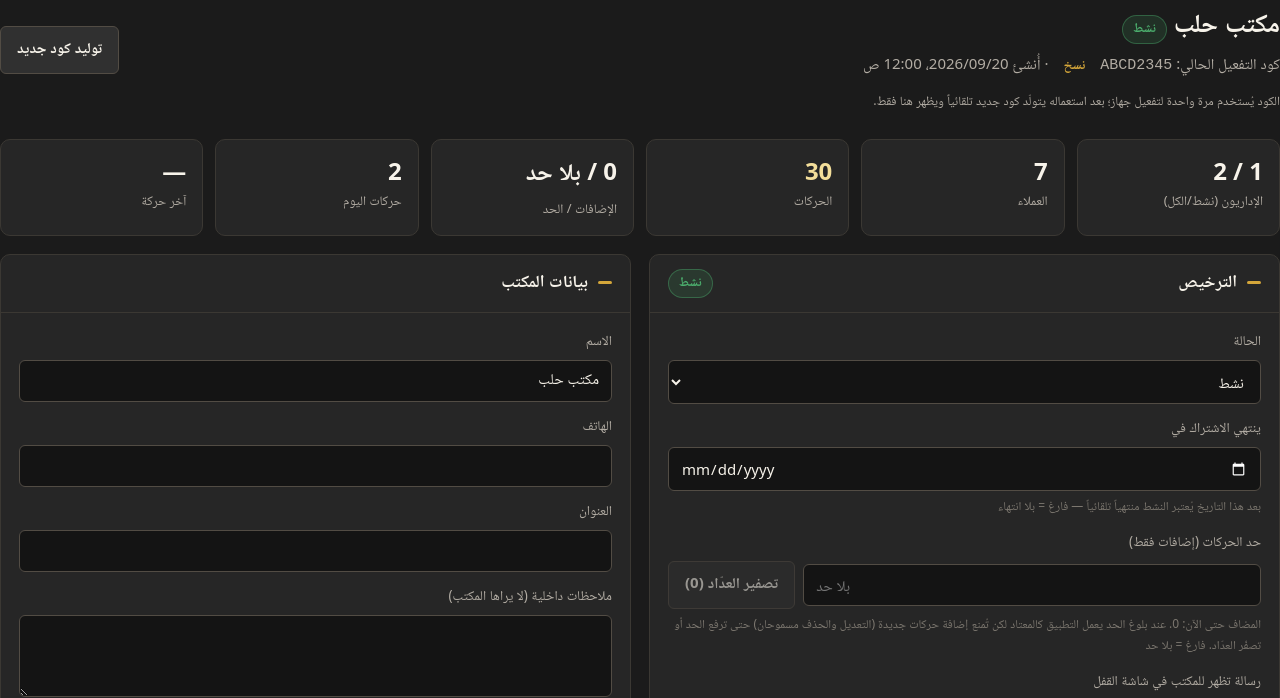
Test: office page › saves a license change and confirms it
expect the heading "مكتب حلب نشط" is shown: met, box [1122, 4, 1279, 44]
Select "موقوف" in the dropdown labelled "الحالة": (964, 382) [668, 360, 1261, 404]
(page scrolled)
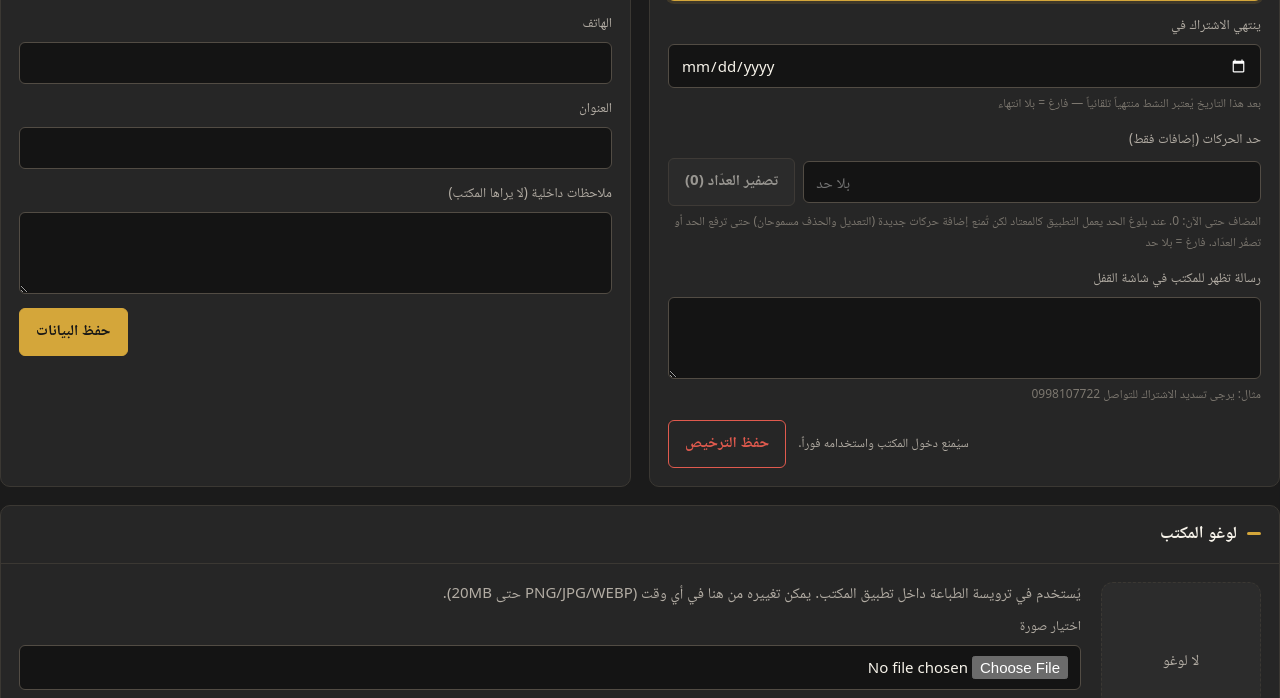
In the text box labelled "رسالة تظهر للمكتب في شاشة القفل": (964, 338) [668, 297, 1261, 379], type "لم يُسدَّد"
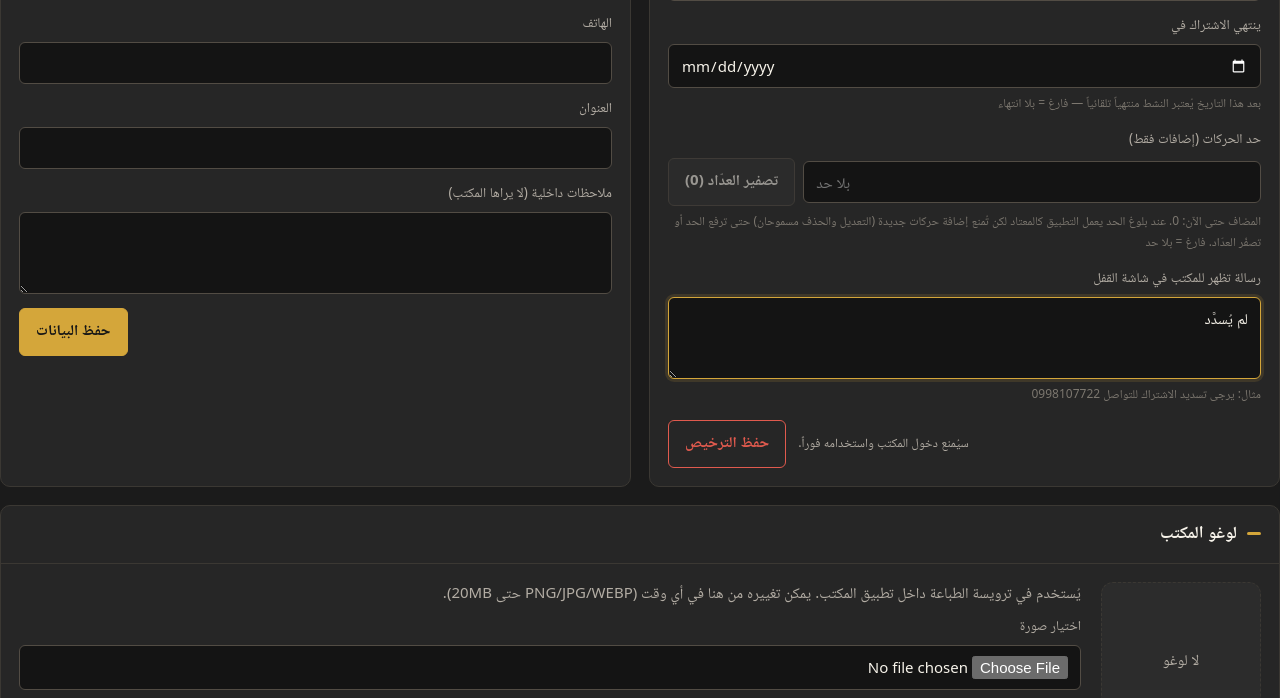
Click the button "حفظ الترخيص": click(727, 444) [668, 420, 786, 468]
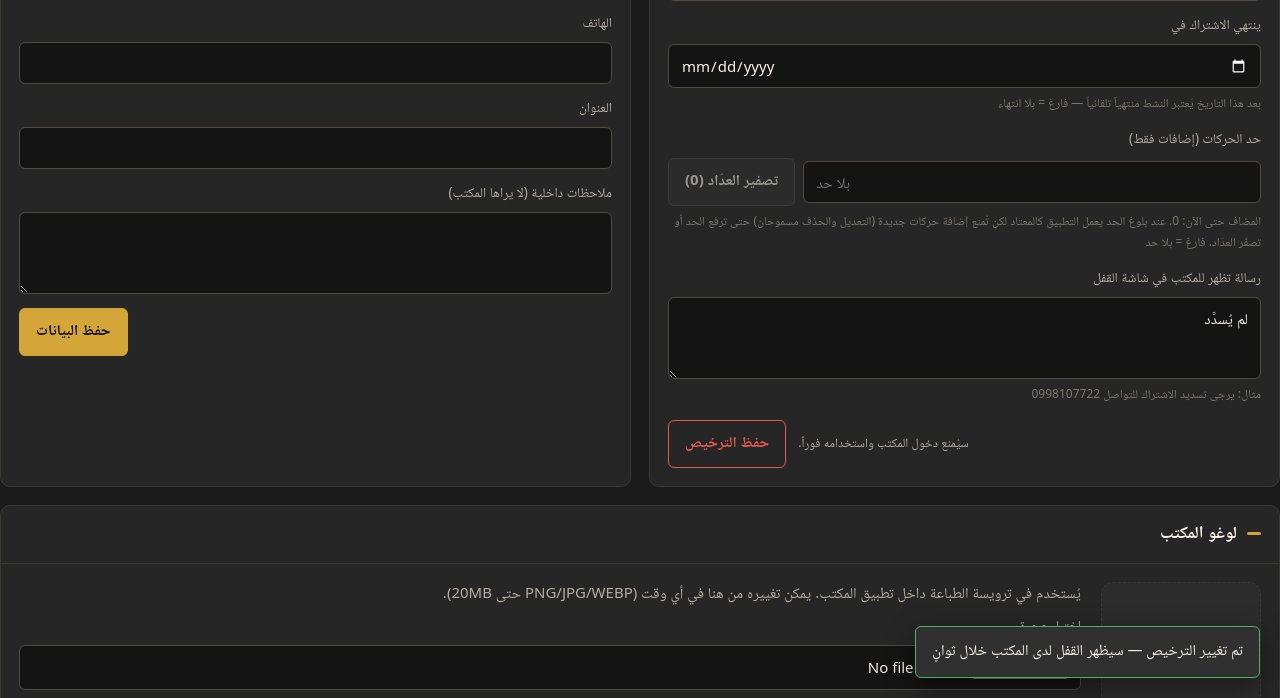
expect the text "تم تغيير الترخيص — سيظهر القفل لدى المكتب خلال ثوانٍ" is shown: met, box [915, 626, 1260, 678]
